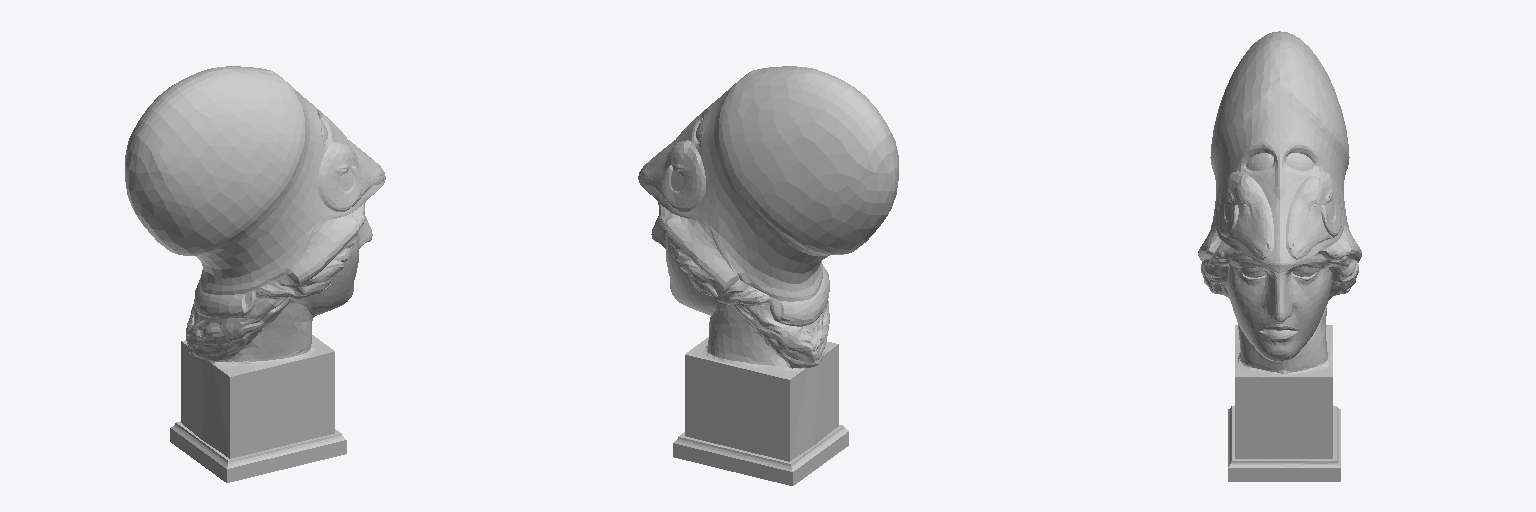
File: ateneam2.obj
3 renders of one model, left to right at view 1: azimuth 30°, elevation 25°; view 2: azimuth 150°, elevation 25°; view 3: azimuth 270°, elevation 25°, orthographic.
Parts seen in each view (by area): view 1: Object__0; view 2: Object__0; view 3: Object__0.
Part boxes in pixels (bbox=[...]): Object__0: bbox=[125, 66, 385, 482]; Object__0: bbox=[638, 66, 898, 485]; Object__0: bbox=[1198, 31, 1361, 481].
Bounding box in the file's own units: 0.685 × 1 × 0.3818.